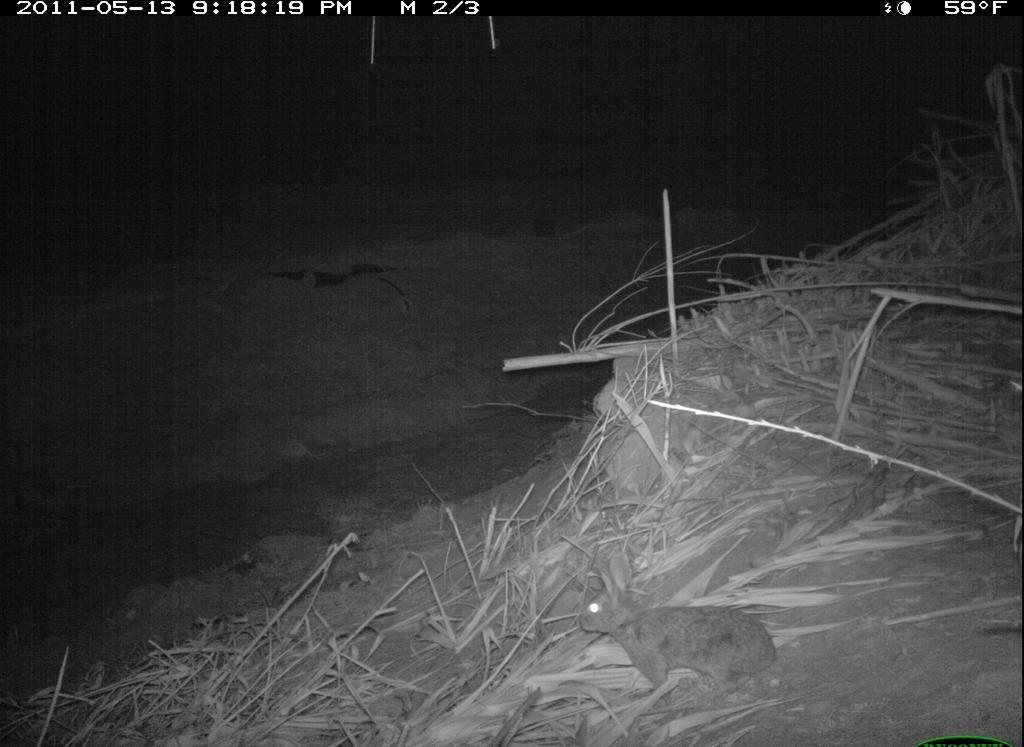rabbit: (579, 548, 784, 707)
